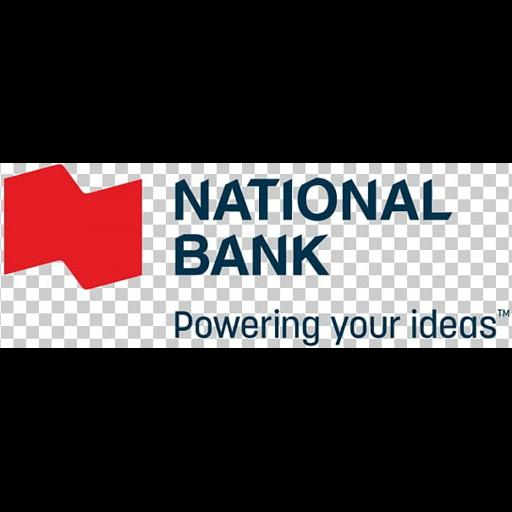National Bank of Canada: (0, 163, 512, 348)
